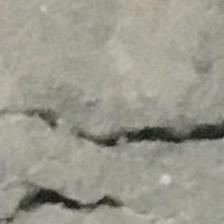Crack: (0, 99, 224, 219)
